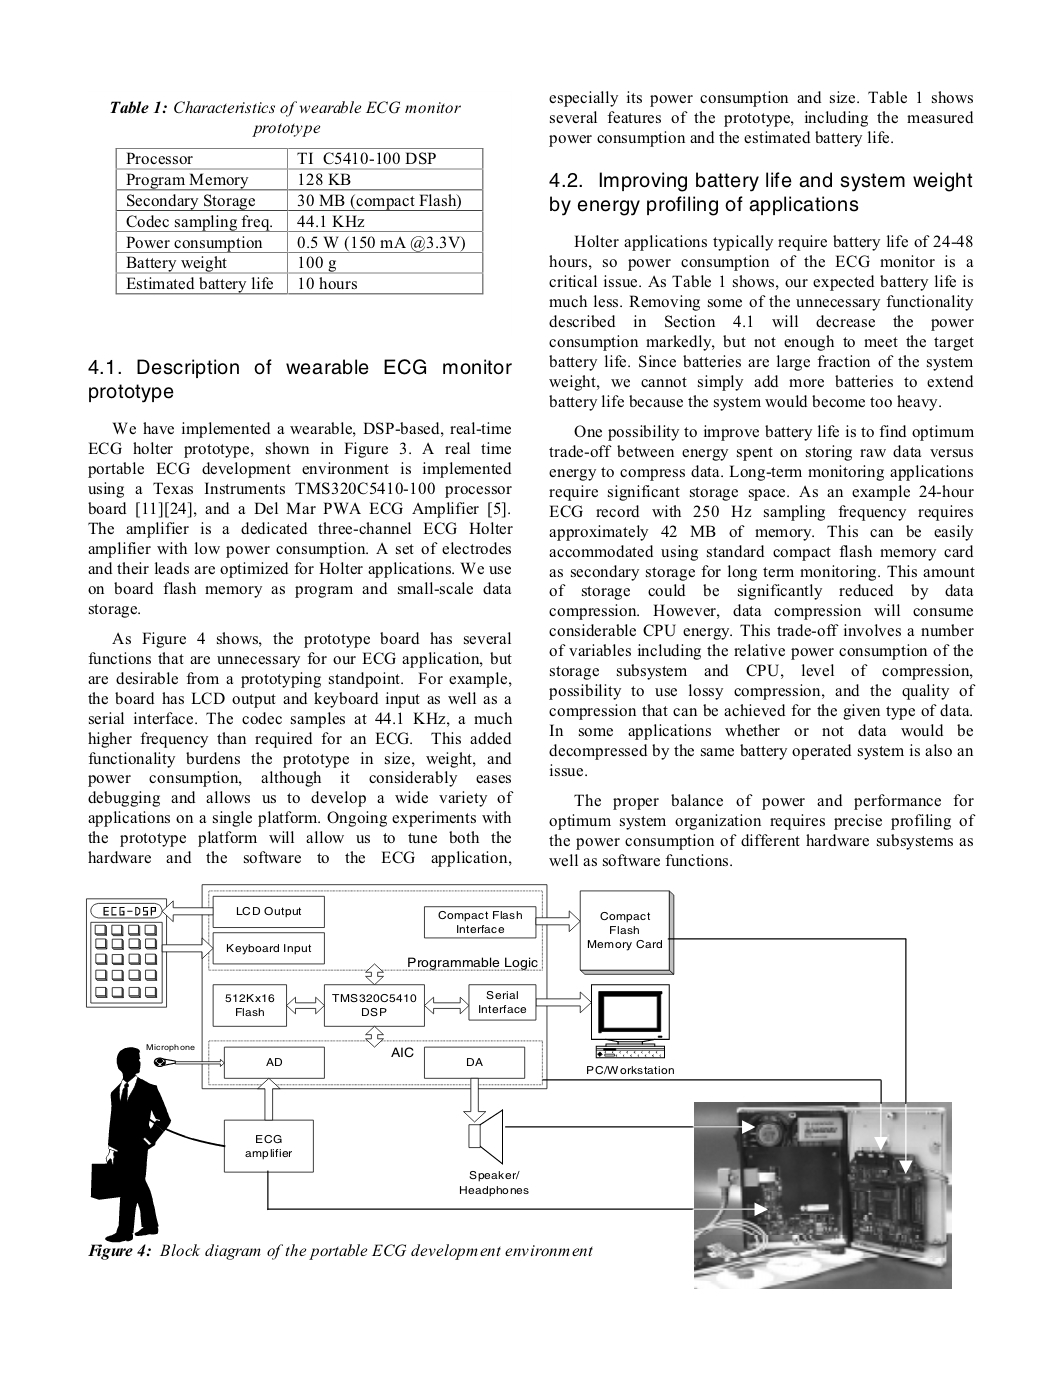Table: (115, 147, 483, 295)
figure: (86, 882, 951, 1289)
